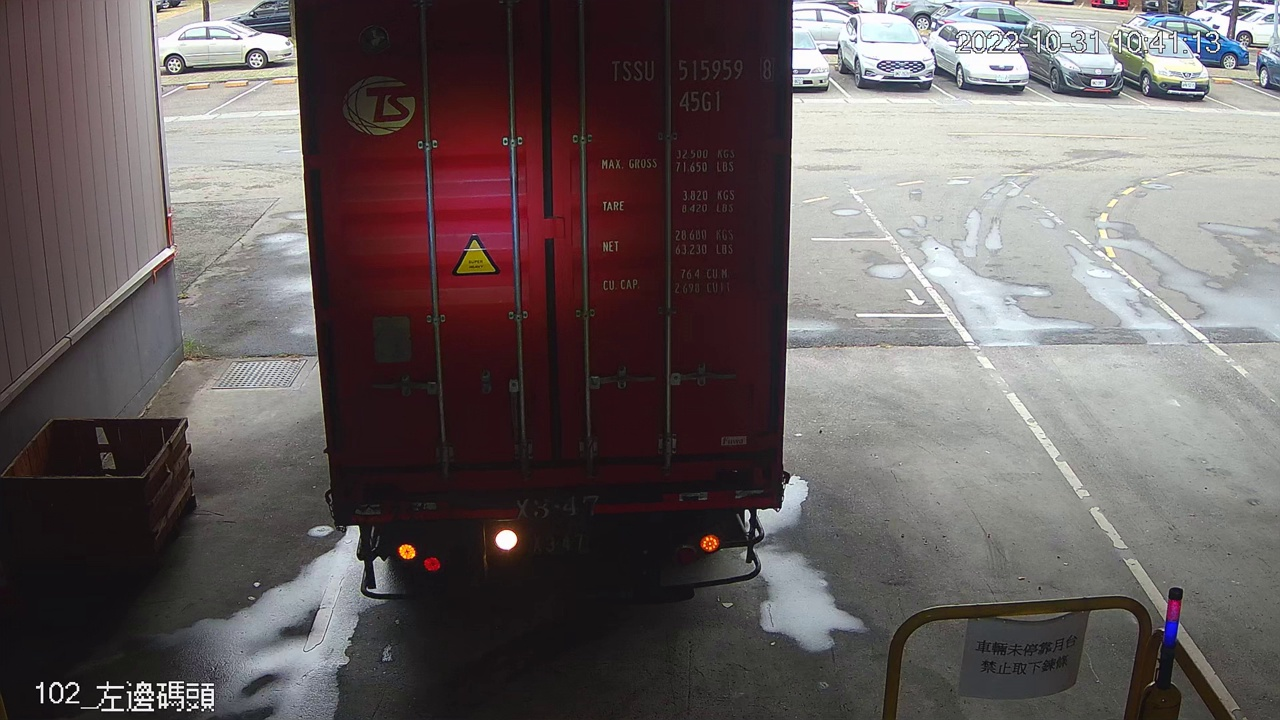container: (603, 50, 781, 119)
